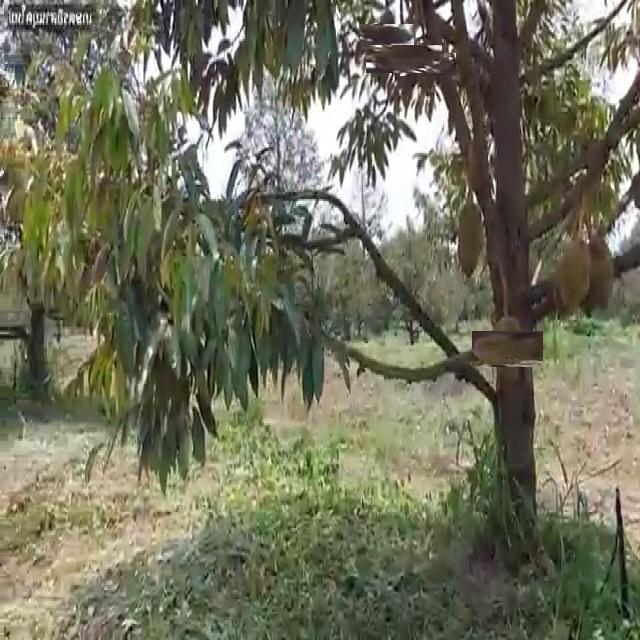durian: (481, 322, 535, 377), (455, 196, 489, 280), (556, 232, 590, 315), (378, 33, 430, 86), (582, 234, 615, 312), (408, 44, 448, 84), (368, 16, 407, 54)
